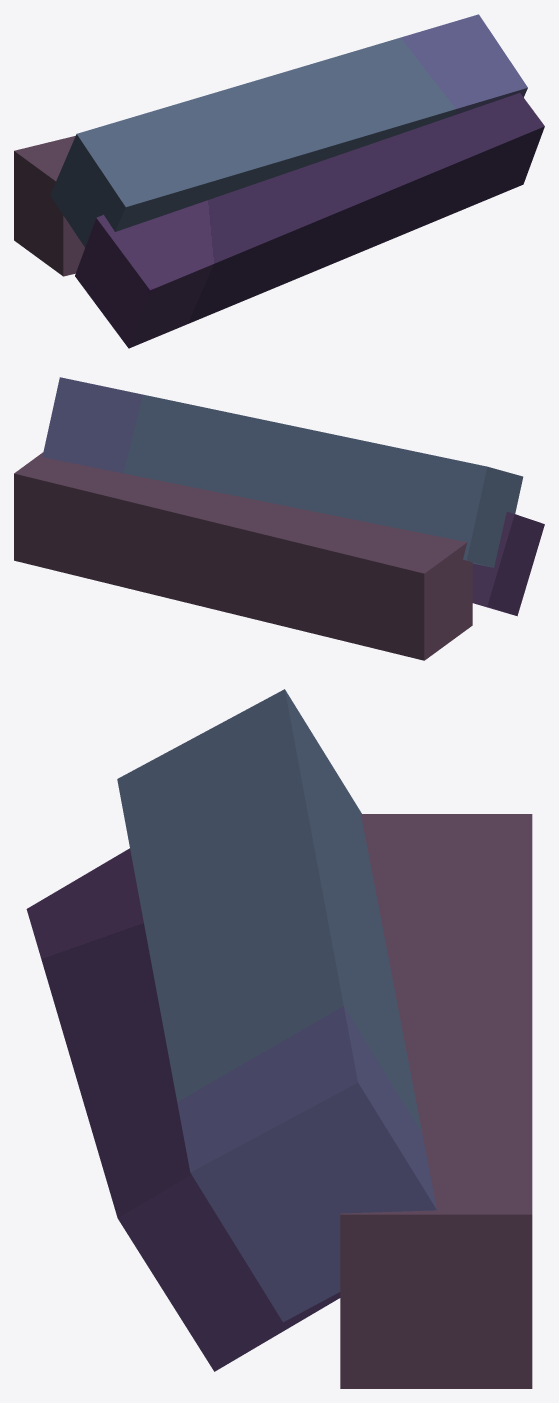
File: Firewood2.fbx
The picture shows the model from 3 angles, top to bottom: view 1: azimuth 30°, elevation 25°; view 2: azimuth 150°, elevation 25°; view 3: azimuth 270°, elevation 25°; orthographic projection. The views are drawn at different scales.
Visible parts, largest first — view 1: Firewood2; view 2: Firewood2; view 3: Firewood2.
Part boxes in pixels (x1,y1,x2,y2): Firewood2: (14,14,544,348); Firewood2: (14,377,544,660); Firewood2: (26,689,532,1388).
Bounding box in the file's own units: 1.32 × 0.5529 × 0.6861.
